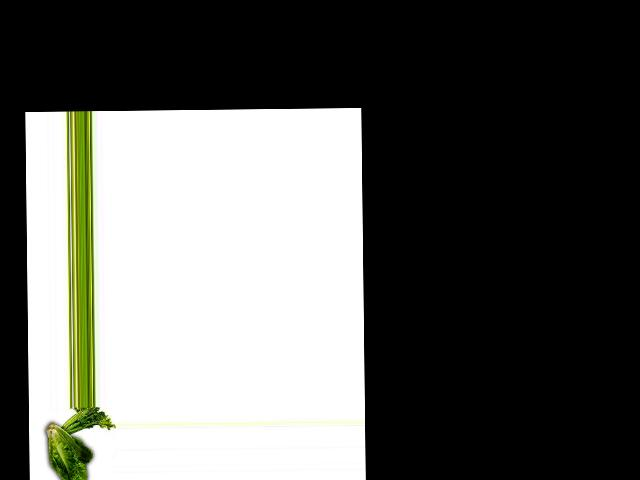lettuce: (48, 419, 98, 480)
